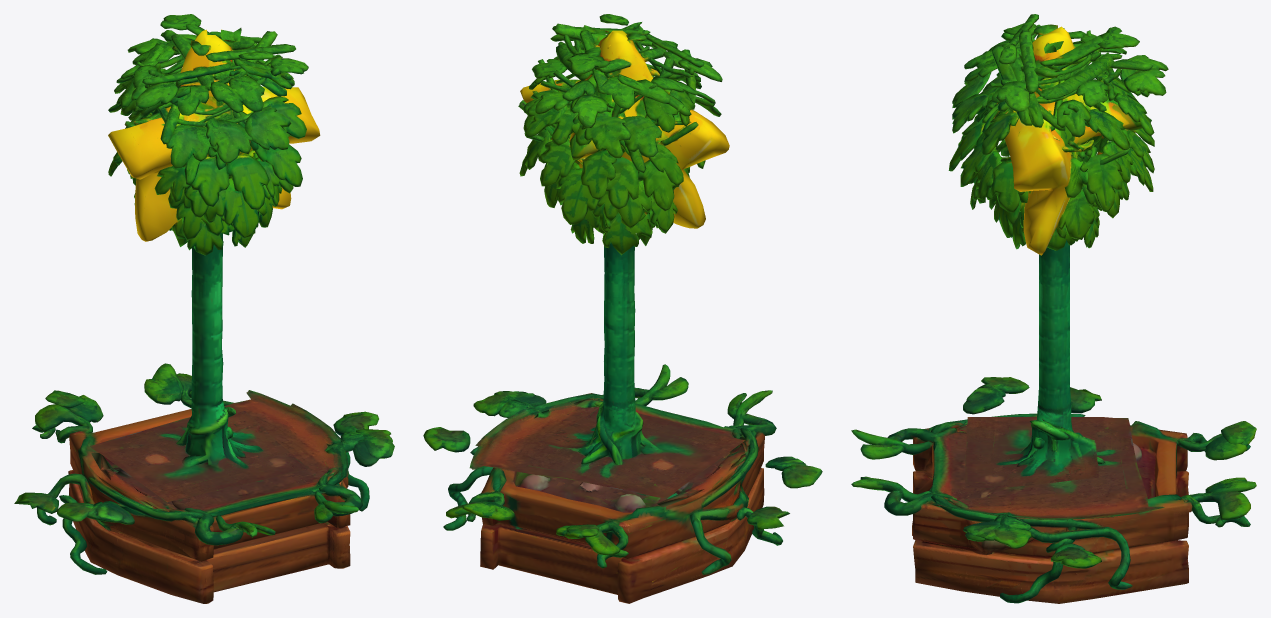
The model's file is topiary_star.glb.
The picture shows the model from 3 angles, left to right: view 1: azimuth 30°, elevation 25°; view 2: azimuth 150°, elevation 25°; view 3: azimuth 270°, elevation 25°; orthographic projection. The views are drawn at different scales.
Bounding box in the file's own units: 1.41 × 1.89 × 1.33.
Materials: 1 (1 with a texture image).
